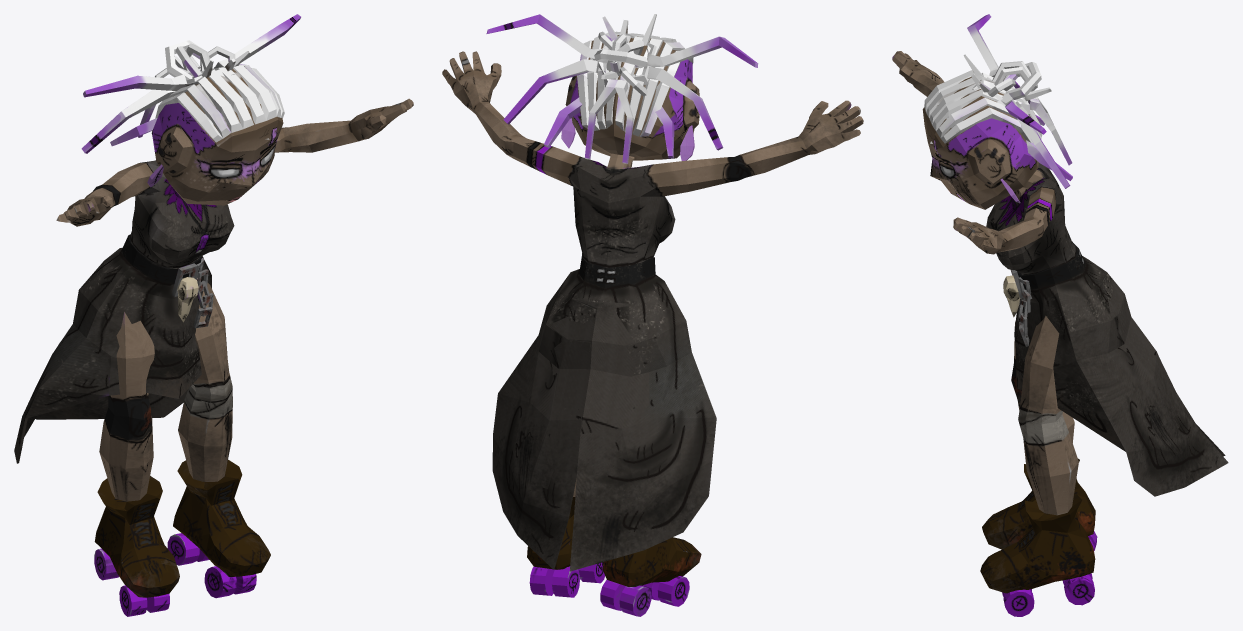
File: bruja_000132.obj
The picture shows the model from 3 angles, left to right: view 1: azimuth 30°, elevation 25°; view 2: azimuth 150°, elevation 25°; view 3: azimuth 270°, elevation 25°; orthographic projection. The views are drawn at different scales.
Parts seen in each view (by area): view 1: Bruja_Plane.001; view 2: Bruja_Plane.001; view 3: Bruja_Plane.001.
Part boxes in pixels (x1,y1,x2,y2): Bruja_Plane.001: [14, 14, 413, 616]; Bruja_Plane.001: [442, 14, 863, 616]; Bruja_Plane.001: [892, 14, 1228, 616].
Size of the model in its own units: 11.55 by 16.15 by 9.24.
